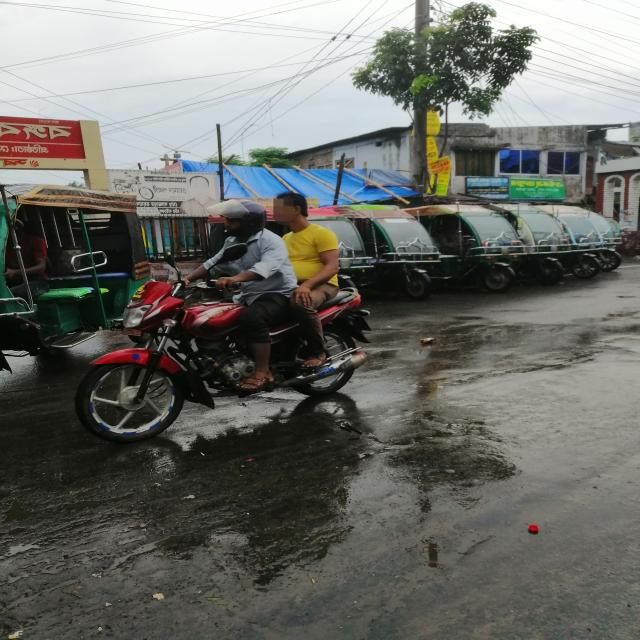Easybike: (426, 200, 525, 300), (359, 201, 444, 304), (495, 196, 571, 287), (545, 204, 601, 280)
Motorbike: (69, 249, 372, 445)
